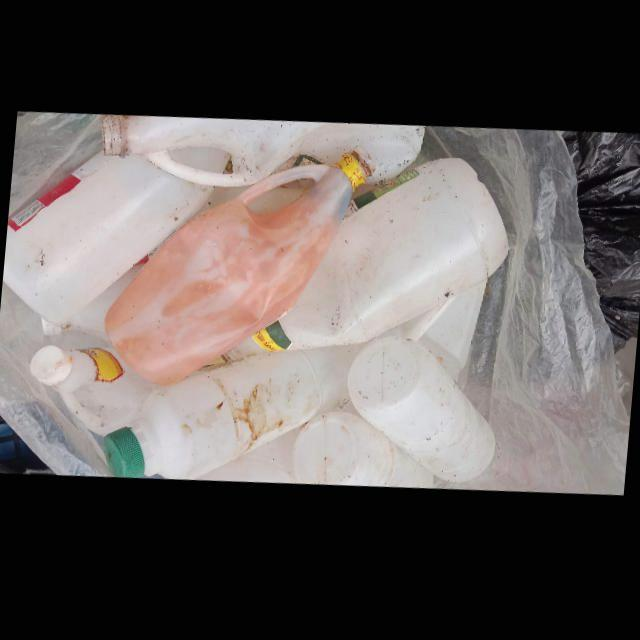plastic_bottle: (104, 150, 375, 388), (207, 162, 508, 367), (102, 349, 359, 483), (29, 346, 155, 438), (40, 255, 155, 342)
plastic_container: (2, 152, 213, 326), (98, 115, 423, 190), (347, 340, 495, 488), (291, 415, 432, 494)
